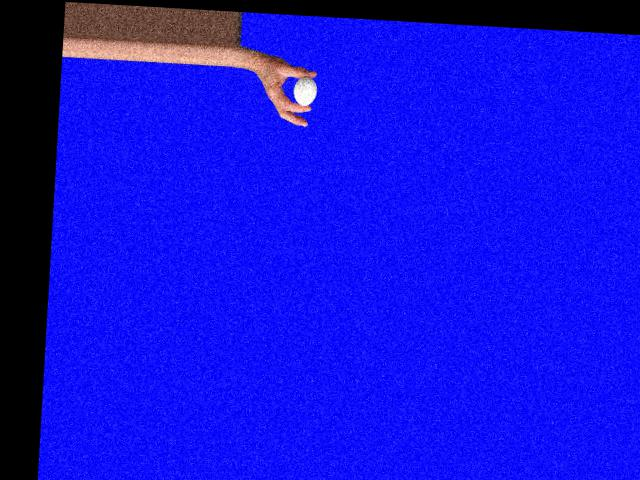egg: (293, 75, 318, 106)
